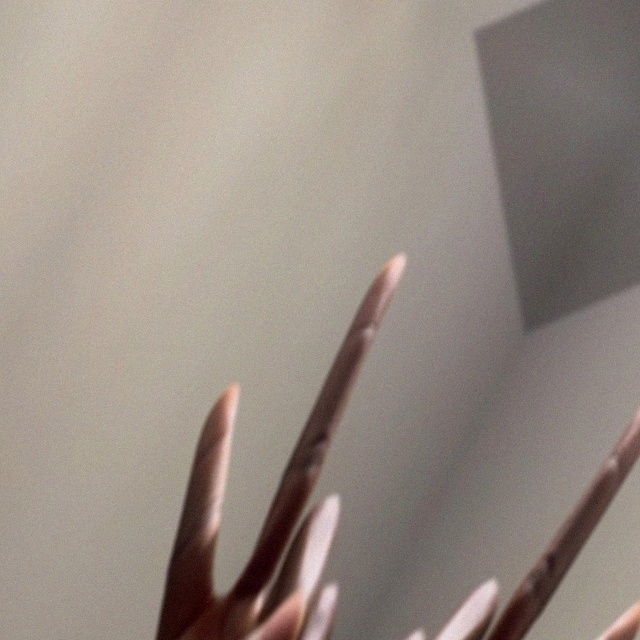Scissors: (36, 209, 530, 640)
